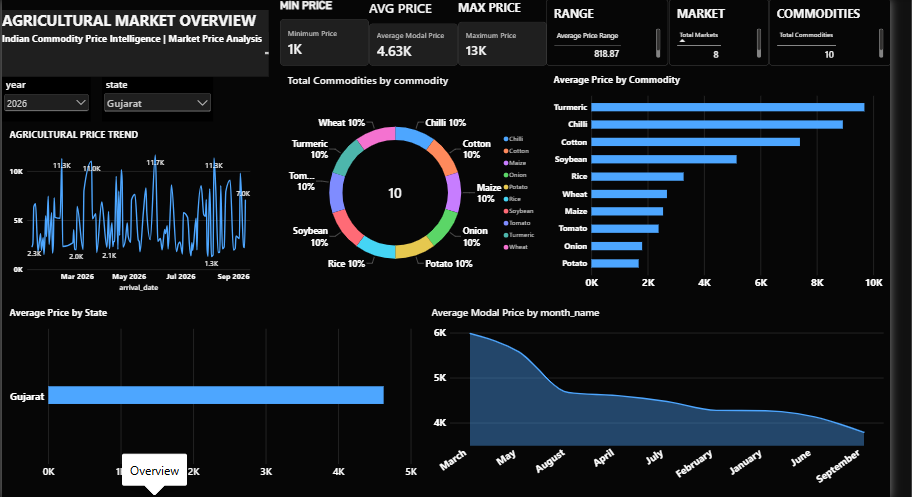

This screenshot's page, from the dashboard's own definition file:
{"tool":"powerbi","page":{"name":"Overview","canvas":[1920,1080],"ordinal":0},"visuals":[{"type":"textbox","title":"AGRICULTURAL MARKET OVERVIEW","box":[0,24,576,144],"z":0},{"type":"textbox","title":"Indian Commodity Price Intelligence | Market Price Analysis","box":[0,72,576,48],"z":2000},{"type":"slicer","fields":{"Values":["Indian Agricultural datset.year"]},"box":[0,168,192,96],"z":5000},{"type":"cardVisual","title":"AVG PRICE","fields":{"Data":["Indian Agricultural datset.Average Modal Price"]},"box":[792,0,192,144],"z":7000},{"type":"cardVisual","title":"MIN PRICE","fields":{"Data":["Indian Agricultural datset.Minimum Price"]},"box":[600,0,192,144],"z":8000},{"type":"cardVisual","title":"MAX PRICE","fields":{"Data":["Indian Agricultural datset.Maximum Price"]},"box":[984,0,192,144],"z":9000},{"type":"tableEx","title":"RANGE","fields":{"Values":["Indian Agricultural datset.Average Price Range"]},"box":[1176,0,264,144],"z":10000},{"type":"tableEx","title":"MARKET","fields":{"Values":["Indian Agricultural datset.Total Markets"]},"box":[1440,0,216,144],"z":11000},{"type":"tableEx","title":"COMMODITIES","fields":{"Values":["Indian Agricultural datset.Total Commodities"]},"box":[1656,0,264,144],"z":12000},{"type":"lineChart","title":"AGRICULTURAL PRICE TREND","fields":{"Category":["Indian Agricultural datset.arrival_date"],"Y":["Indian Agricultural datset.Average Modal Price"]},"box":[0,264,648,432],"z":13000},{"type":"clusteredBarChart","title":"Average Price by Commodity","fields":{"Category":["Indian Agricultural datset.commodity"],"Y":["Indian Agricultural datset.Average Modal Price"]},"box":[1176,144,744,456],"z":14000},{"type":"clusteredBarChart","title":"Average Price by State","fields":{"Category":["Indian Agricultural datset.state"],"Y":["Indian Agricultural datset.Average Modal Price"]},"box":[0,648,912,408],"z":15000},{"type":"areaChart","fields":{"Category":["Indian Agricultural datset.month_name"],"Y":["Indian Agricultural datset.Average Modal Price"]},"box":[888,600,1032,480],"z":16000},{"type":"donutChart","fields":{"Category":["Indian Agricultural datset.commodity"],"Y":["Indian Agricultural datset.Total Commodities"]},"box":[600,144,576,456],"z":17000},{"type":"slicer","fields":{"Values":["Indian Agricultural datset.state"]},"box":[216,168,240,96],"z":17001}]}

Visuals, with their boxes on the page's 1920x1080 design canvas (x1, y1, x2, y2). These are canvas units, not pixel positions in the 912x497 screenshot, which may show the page scaled, cropped or inside an application window:
"AGRICULTURAL MARKET OVERVIEW" textbox: pyautogui.locateOnScreen(0, 24, 576, 168)
"Indian Commodity Price Intelligence | Market Price Analysis" textbox: pyautogui.locateOnScreen(0, 72, 576, 120)
slicer - Indian Agricultural datset.year: pyautogui.locateOnScreen(0, 168, 192, 264)
"AVG PRICE" cardVisual: pyautogui.locateOnScreen(792, 0, 984, 144)
"MIN PRICE" cardVisual: pyautogui.locateOnScreen(600, 0, 792, 144)
"MAX PRICE" cardVisual: pyautogui.locateOnScreen(984, 0, 1176, 144)
"RANGE" tableEx: pyautogui.locateOnScreen(1176, 0, 1440, 144)
"MARKET" tableEx: pyautogui.locateOnScreen(1440, 0, 1656, 144)
"COMMODITIES" tableEx: pyautogui.locateOnScreen(1656, 0, 1920, 144)
"AGRICULTURAL PRICE TREND" lineChart: pyautogui.locateOnScreen(0, 264, 648, 696)
"Average Price by Commodity" clusteredBarChart: pyautogui.locateOnScreen(1176, 144, 1920, 600)
"Average Price by State" clusteredBarChart: pyautogui.locateOnScreen(0, 648, 912, 1056)
areaChart - Indian Agricultural datset.month_name x Indian Agricultural datset.Average Modal Price: pyautogui.locateOnScreen(888, 600, 1920, 1080)
donutChart - Indian Agricultural datset.commodity x Indian Agricultural datset.Total Commodities: pyautogui.locateOnScreen(600, 144, 1176, 600)
slicer - Indian Agricultural datset.state: pyautogui.locateOnScreen(216, 168, 456, 264)
